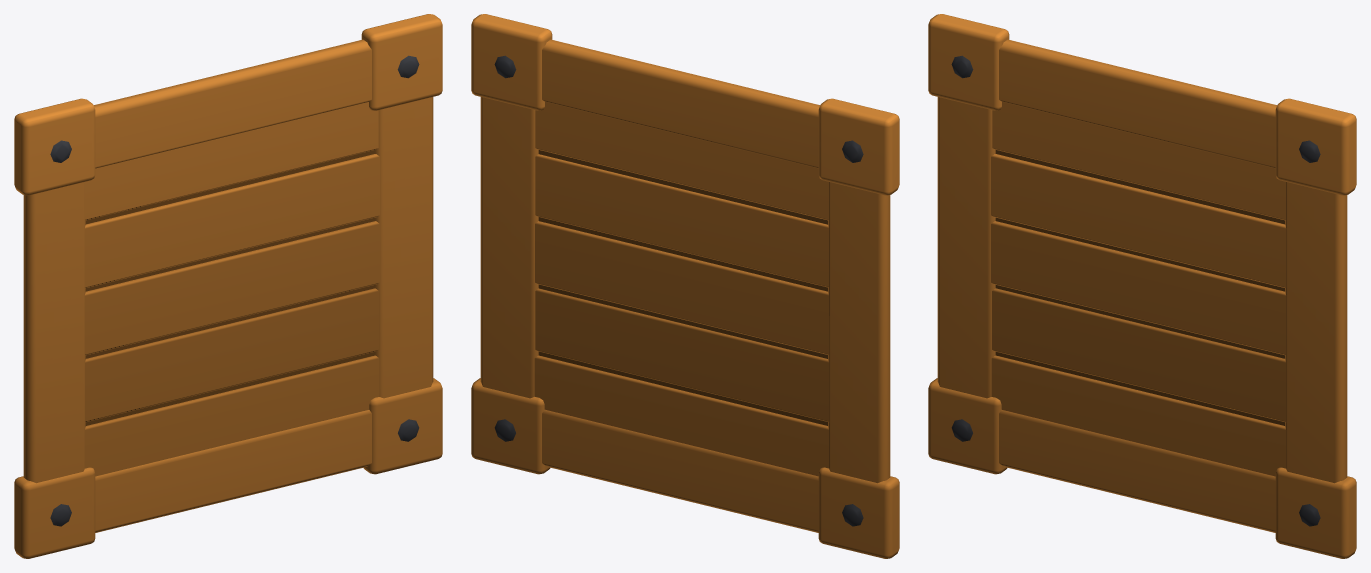
The model's file is wall_wood.glb.
3 views of the same model, side by side, from view 1: azimuth 30°, elevation 25°; view 2: azimuth 150°, elevation 25°; view 3: azimuth 330°, elevation 25° (orthographic).
Parts seen in each view (by area): view 1: wall_wood; view 2: wall_wood; view 3: wall_wood.
Boxes of the visible parts, x1=… form: wall_wood: x1=14, y1=14, x2=442, y2=558; wall_wood: x1=471, y1=14, x2=899, y2=558; wall_wood: x1=928, y1=14, x2=1356, y2=558.
Bounding box in the file's own units: 4 × 4 × 0.25.
